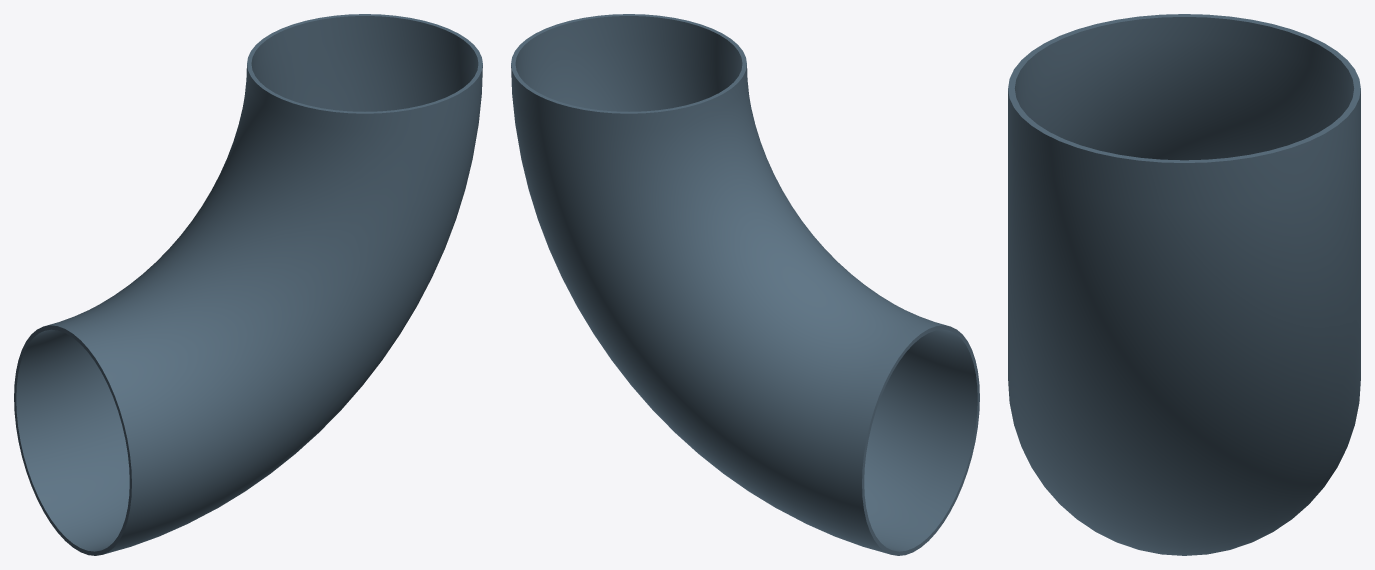
The model's file is otvod-90-630x12-R900.glb.
The picture shows the model from 3 angles, left to right: view 1: azimuth 30°, elevation 25°; view 2: azimuth 150°, elevation 25°; view 3: azimuth 270°, elevation 25°; orthographic projection. The views are drawn at different scales.
Parts seen in each view (by area): view 1: Open CASCADE STEP translator 7.9 104; view 2: Open CASCADE STEP translator 7.9 104; view 3: Open CASCADE STEP translator 7.9 104.
Part boxes in pixels (x1,y1,x2,y2): Open CASCADE STEP translator 7.9 104: (14, 14, 482, 555); Open CASCADE STEP translator 7.9 104: (511, 14, 979, 555); Open CASCADE STEP translator 7.9 104: (1008, 14, 1360, 555).
Bounding box in the file's own units: 1215 × 1215 × 630.
